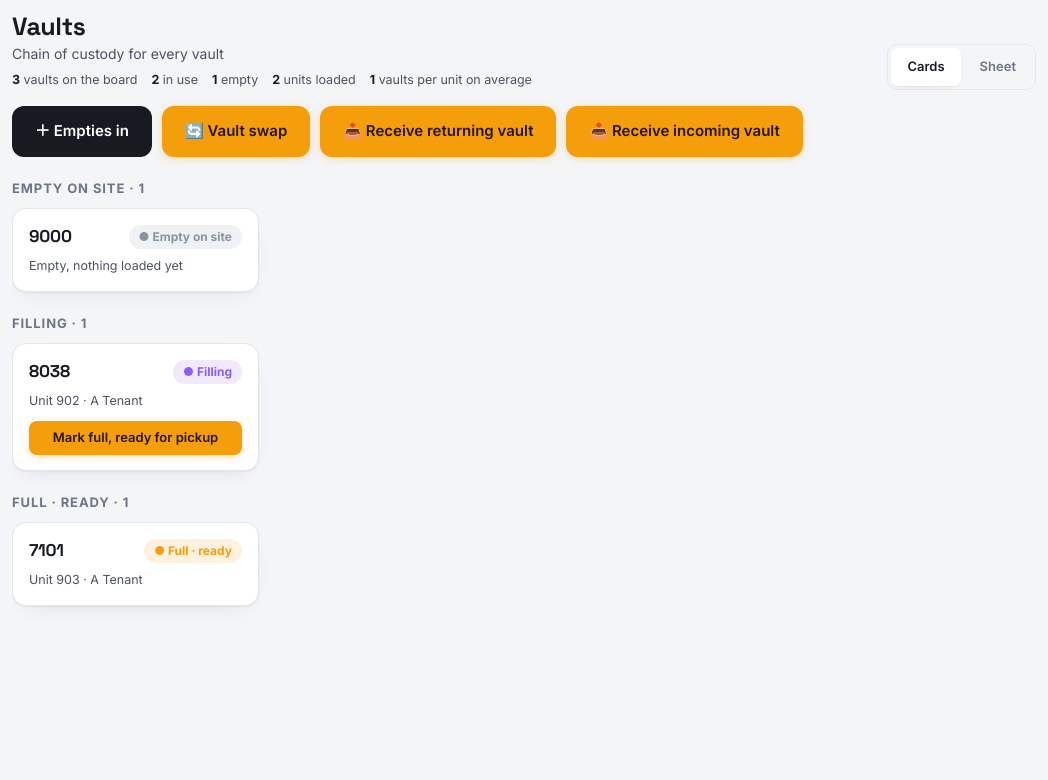
Test: the vault sheet › names the customer beside the vault, the way their sheet does
Click the button "Sheet": point(998, 67) [964, 48, 1032, 86]
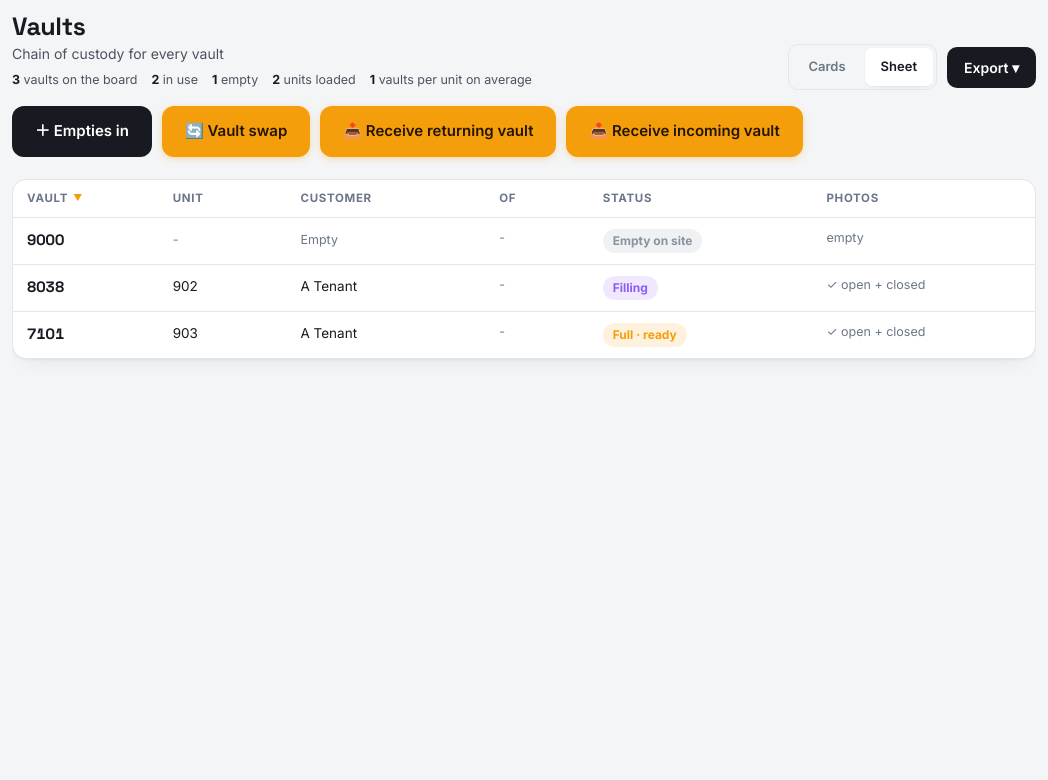
Expected: the row "8038 902 A Tenant - Filling ✓ open + closed" is shown, [13, 264, 1035, 311]
